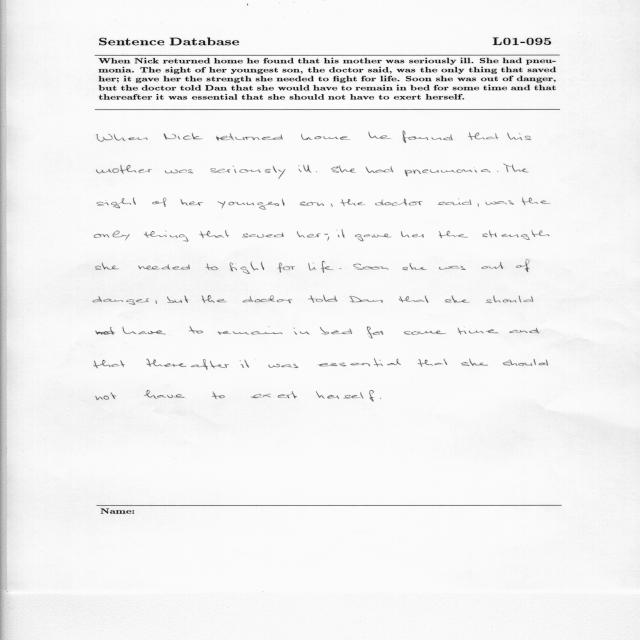word: (211, 165, 286, 179), (146, 358, 229, 370), (405, 167, 490, 176), (317, 358, 401, 367), (217, 199, 285, 210), (316, 390, 374, 402), (483, 230, 550, 240), (403, 131, 453, 143), (217, 326, 283, 335), (96, 327, 165, 335), (93, 296, 149, 305), (97, 165, 152, 174), (144, 231, 188, 242), (216, 134, 283, 141), (230, 261, 265, 274), (97, 134, 148, 142), (243, 296, 293, 304), (97, 198, 136, 208), (375, 198, 423, 206), (486, 295, 534, 303), (144, 390, 185, 399), (94, 231, 130, 241), (301, 133, 350, 140), (251, 391, 297, 398), (503, 359, 548, 366), (308, 261, 334, 273), (355, 234, 392, 242), (458, 328, 499, 335), (164, 133, 203, 140), (138, 265, 190, 270), (242, 232, 284, 238), (468, 132, 499, 140), (94, 360, 125, 368), (199, 230, 229, 238), (308, 295, 338, 303), (418, 359, 448, 367), (349, 296, 383, 303), (399, 295, 428, 303), (320, 327, 352, 334), (353, 264, 389, 270), (404, 330, 446, 335), (503, 164, 529, 172), (367, 326, 383, 339), (438, 199, 472, 205), (439, 231, 468, 238), (202, 295, 227, 303), (445, 295, 470, 303), (366, 166, 394, 173), (522, 198, 550, 205), (508, 132, 532, 140), (96, 262, 120, 270), (461, 359, 488, 366), (509, 328, 540, 334), (516, 260, 530, 273), (331, 166, 356, 173), (341, 199, 366, 206), (278, 263, 295, 273), (297, 231, 321, 238), (403, 263, 427, 270), (167, 295, 188, 303), (96, 393, 117, 401), (369, 132, 392, 139), (181, 199, 204, 206), (401, 231, 424, 238), (482, 262, 504, 269), (485, 200, 514, 205), (152, 198, 167, 207), (299, 201, 324, 206), (268, 364, 298, 368), (165, 170, 193, 174), (298, 165, 312, 173), (189, 326, 203, 334), (294, 328, 310, 335), (439, 266, 466, 270), (212, 392, 225, 400), (206, 263, 218, 270), (240, 359, 249, 368), (336, 230, 345, 238), (324, 234, 329, 241), (155, 300, 157, 304), (331, 204, 333, 207), (478, 203, 479, 207), (340, 268, 342, 269), (497, 171, 498, 172), (380, 398, 381, 399), (316, 172, 318, 172)
